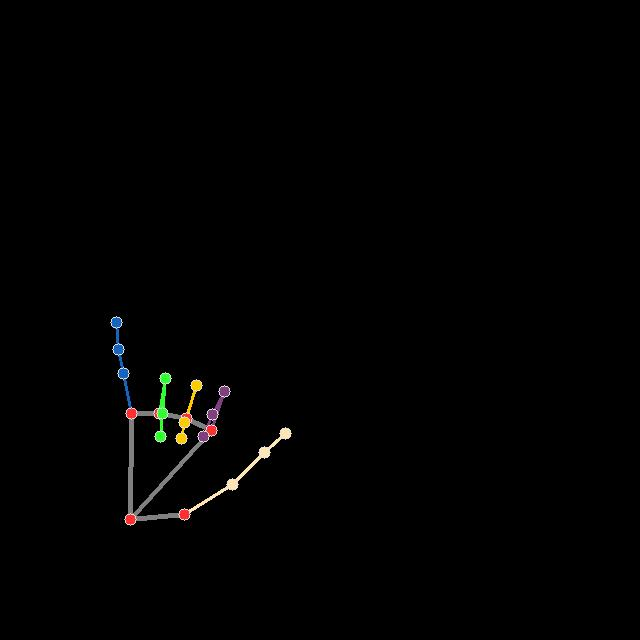skr: (108, 314, 292, 526)
